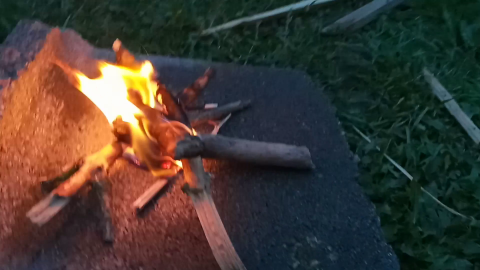fire: (53, 41, 220, 189)
